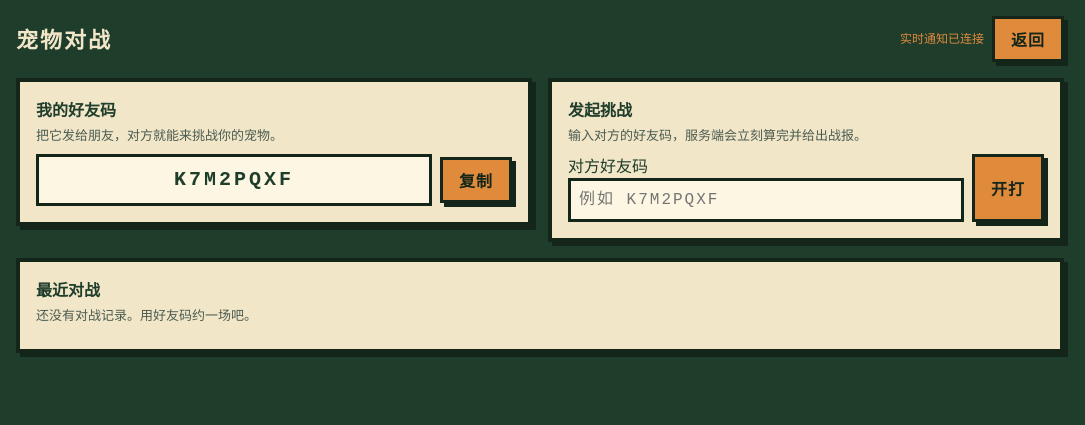
Scenario: BattleView › 挑战失败时显示服务端给的原因
The image size is (1085, 425).
Expected: the text "K7M2PQXF" is shown, [36,154,432,206]
Type "ZZZZZZZZ" into the field with class "challenge-input".
click(766, 200); type("ZZZZZZZZ")  # box [568,178,964,222]
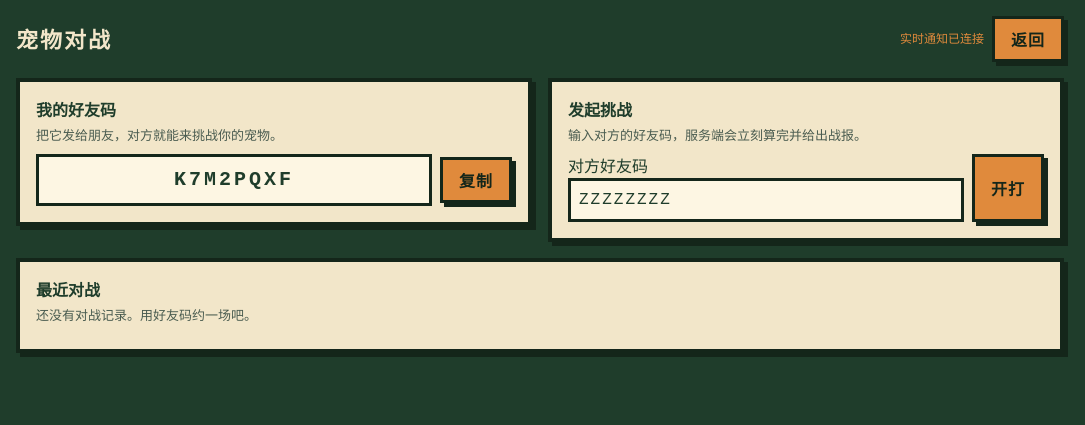
Click the button "开打".
click(1008, 188)  # box [972,154,1044,222]
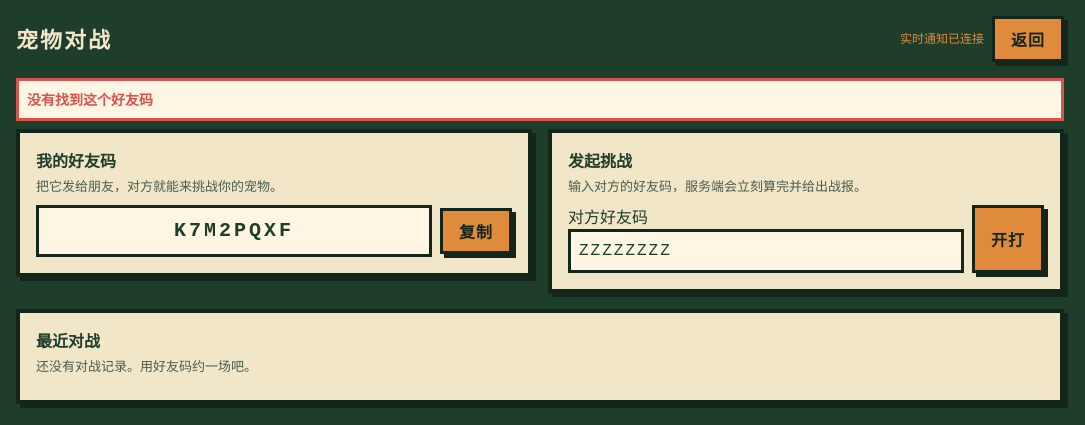
Expected: the message "没有找到这个好友码" is shown, [16,78,1064,121]
Expected: the message with class "battle-alert" reads "没有找到这个好友码", [27,90,153,109]
